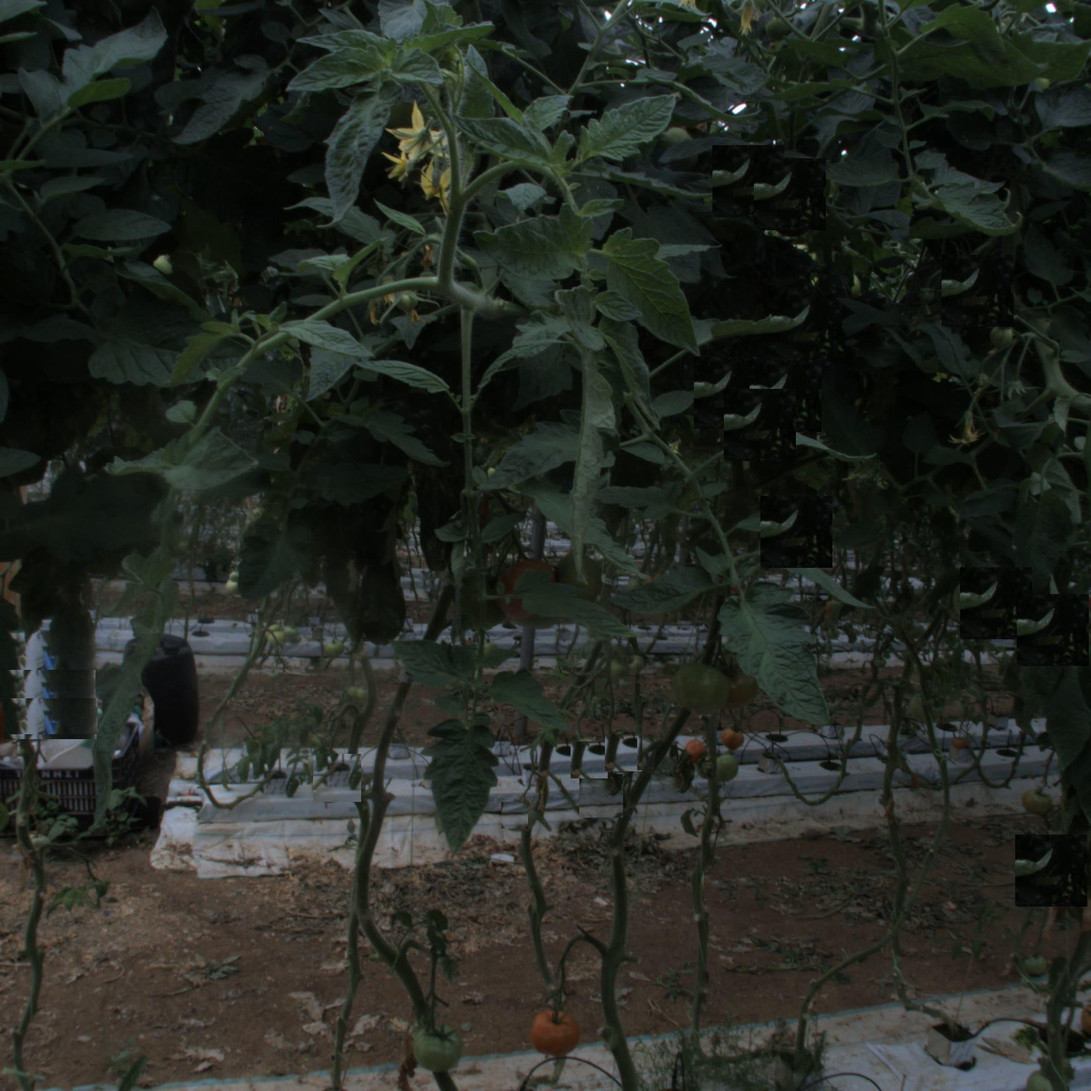fully-ripe: (532, 1008, 580, 1056)
unripe: (674, 657, 730, 714), (412, 1023, 460, 1071)
